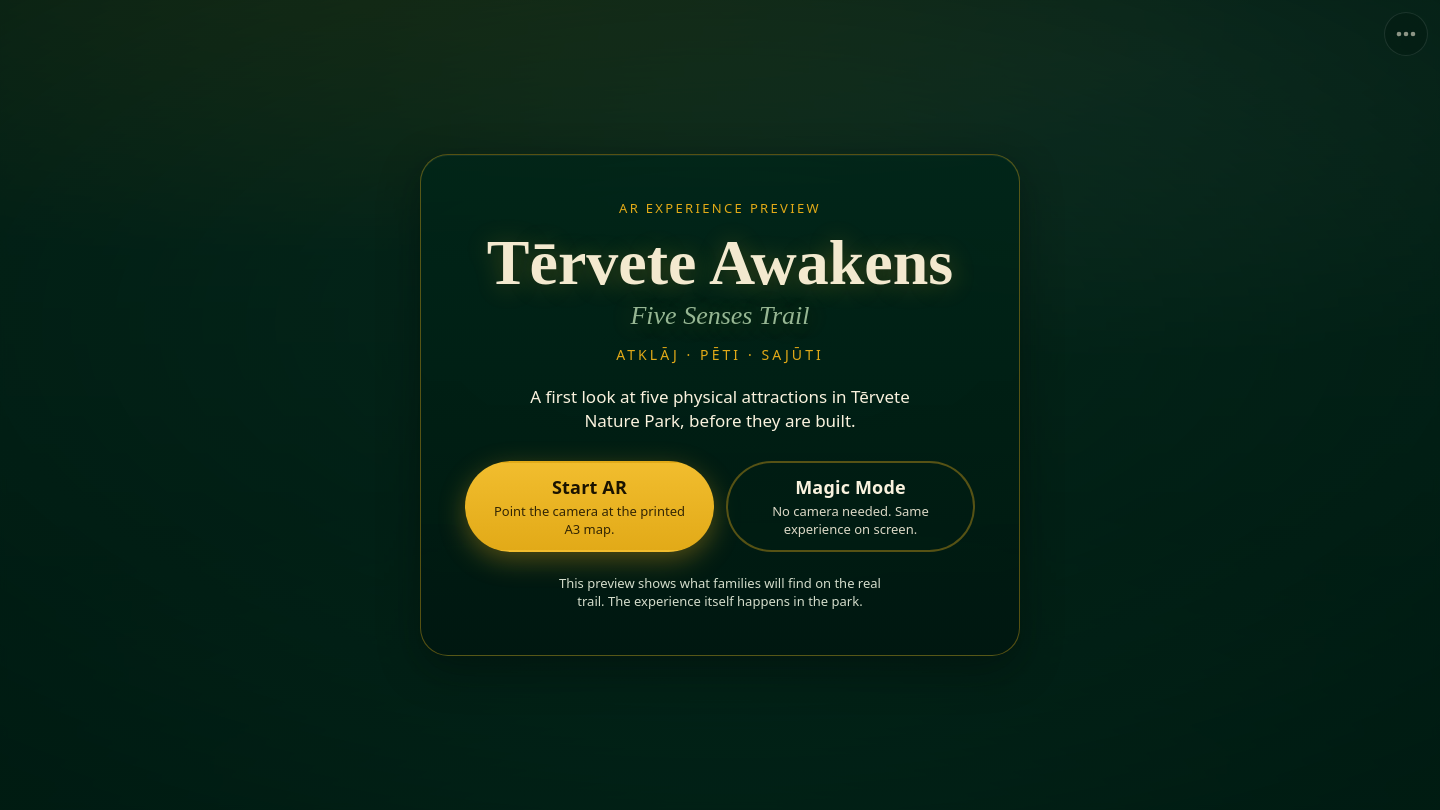
it: AR mode and its fallbacks › AR error continues in Magic Mode with a message and no dead end
Later steps or results of the test are not shown.
Click the button "Start AR Point the camera at the printed A3 map." at (590, 506), box top-left (465, 461), bottom-right (714, 552)
Wait 50 ms
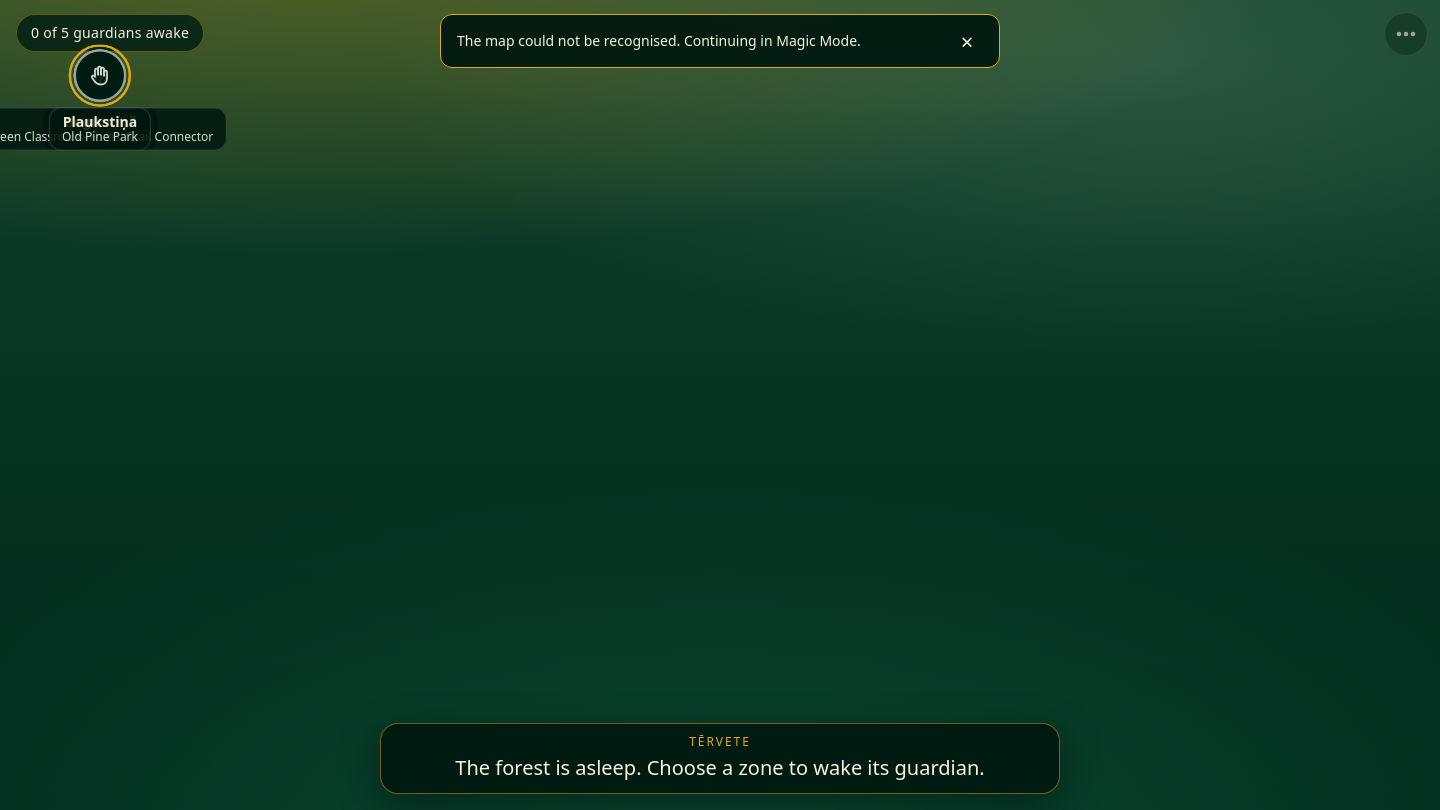
Check: the text "The map could not be recognised. Continuing in Magic Mode." is shown, box top-left (457, 31), bottom-right (861, 51)
Check: the text "0 of 5 guardians awake" is shown, box top-left (16, 14), bottom-right (204, 52)
